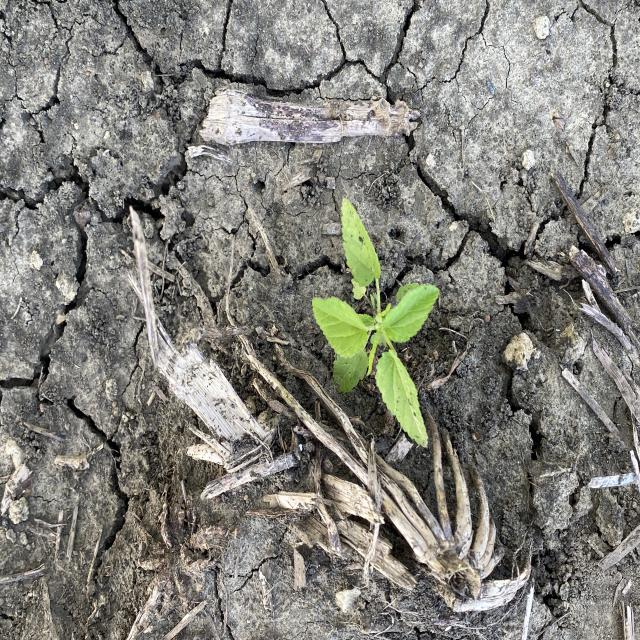PricklySida: (310, 195, 442, 450)
